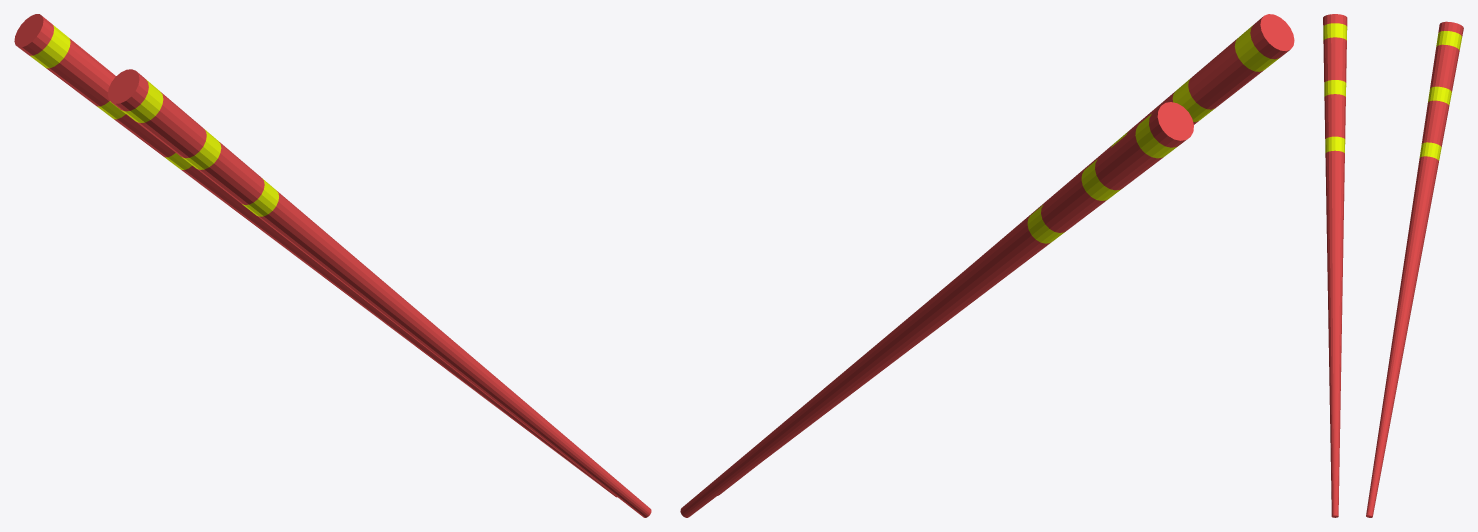
The picture shows the model from 3 angles, left to right: view 1: azimuth 30°, elevation 25°; view 2: azimuth 150°, elevation 25°; view 3: azimuth 270°, elevation 25°; orthographic projection. The views are drawn at different scales.
Visible parts, largest first — view 1: Cylinder001, Cylinder002; view 2: Cylinder002, Cylinder001; view 3: Cylinder002, Cylinder001.
Boxes of the visible parts, left/top/right/bottom form: Cylinder001: left=107, top=69, right=651, bottom=517; Cylinder002: left=14, top=14, right=616, bottom=497; Cylinder002: left=680, top=102, right=1193, bottom=517; Cylinder001: left=717, top=14, right=1294, bottom=495; Cylinder002: left=1366, top=21, right=1463, bottom=517; Cylinder001: left=1323, top=14, right=1347, bottom=517.
Bounding box in the file's own units: 281154 × 284341 × 103317.
